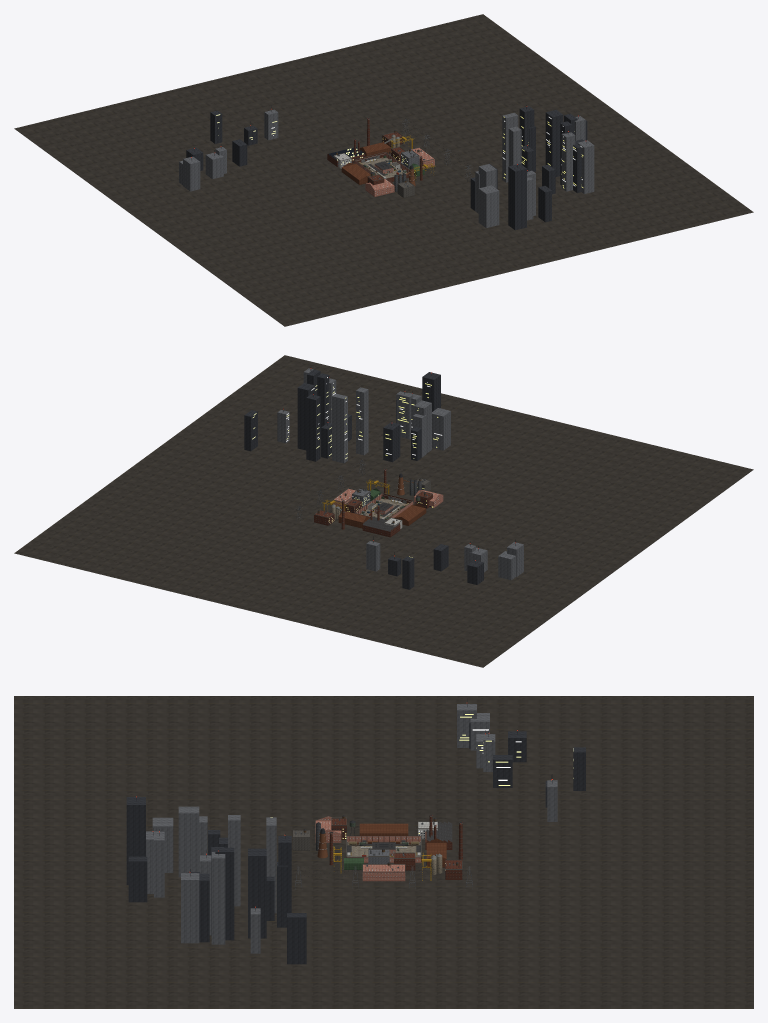
Rendered from arena_brennick.glb.
3 renders of one model, top to bottom at view 1: azimuth 30°, elevation 25°; view 2: azimuth 150°, elevation 25°; view 3: azimuth 270°, elevation 25°, orthographic. The views are drawn at different scales.
Parts seen in each view (by area): view 1: ARENA_far, ARENA; view 2: ARENA_far, ARENA; view 3: ARENA_far, ARENA.
Boxes of the visible parts, x1=… form: ARENA_far: x1=14, y1=14, x2=753, y2=326; ARENA: x1=354, y1=152, x2=409, y2=181; ARENA_far: x1=14, y1=355, x2=753, y2=667; ARENA: x1=354, y1=493, x2=413, y2=519; ARENA_far: x1=14, y1=696, x2=753, y2=1008; ARENA: x1=346, y1=835, x2=421, y2=862.
Bounding box in the file's own units: 1040 × 143 × 1040.
38 materials, 29 textured.
